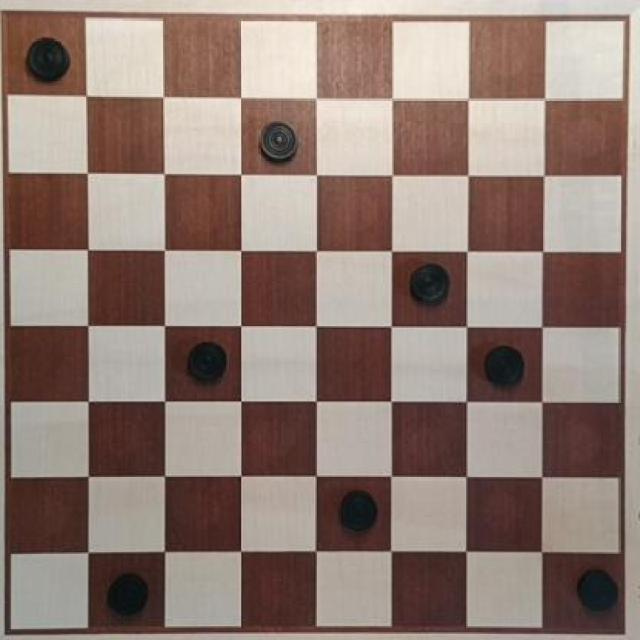BOARD: (5, 14, 627, 634)
black: (469, 335, 535, 395), (14, 31, 77, 88), (568, 560, 624, 624), (95, 560, 155, 618), (174, 332, 233, 385), (332, 483, 385, 538), (250, 111, 306, 163), (405, 254, 457, 308)
